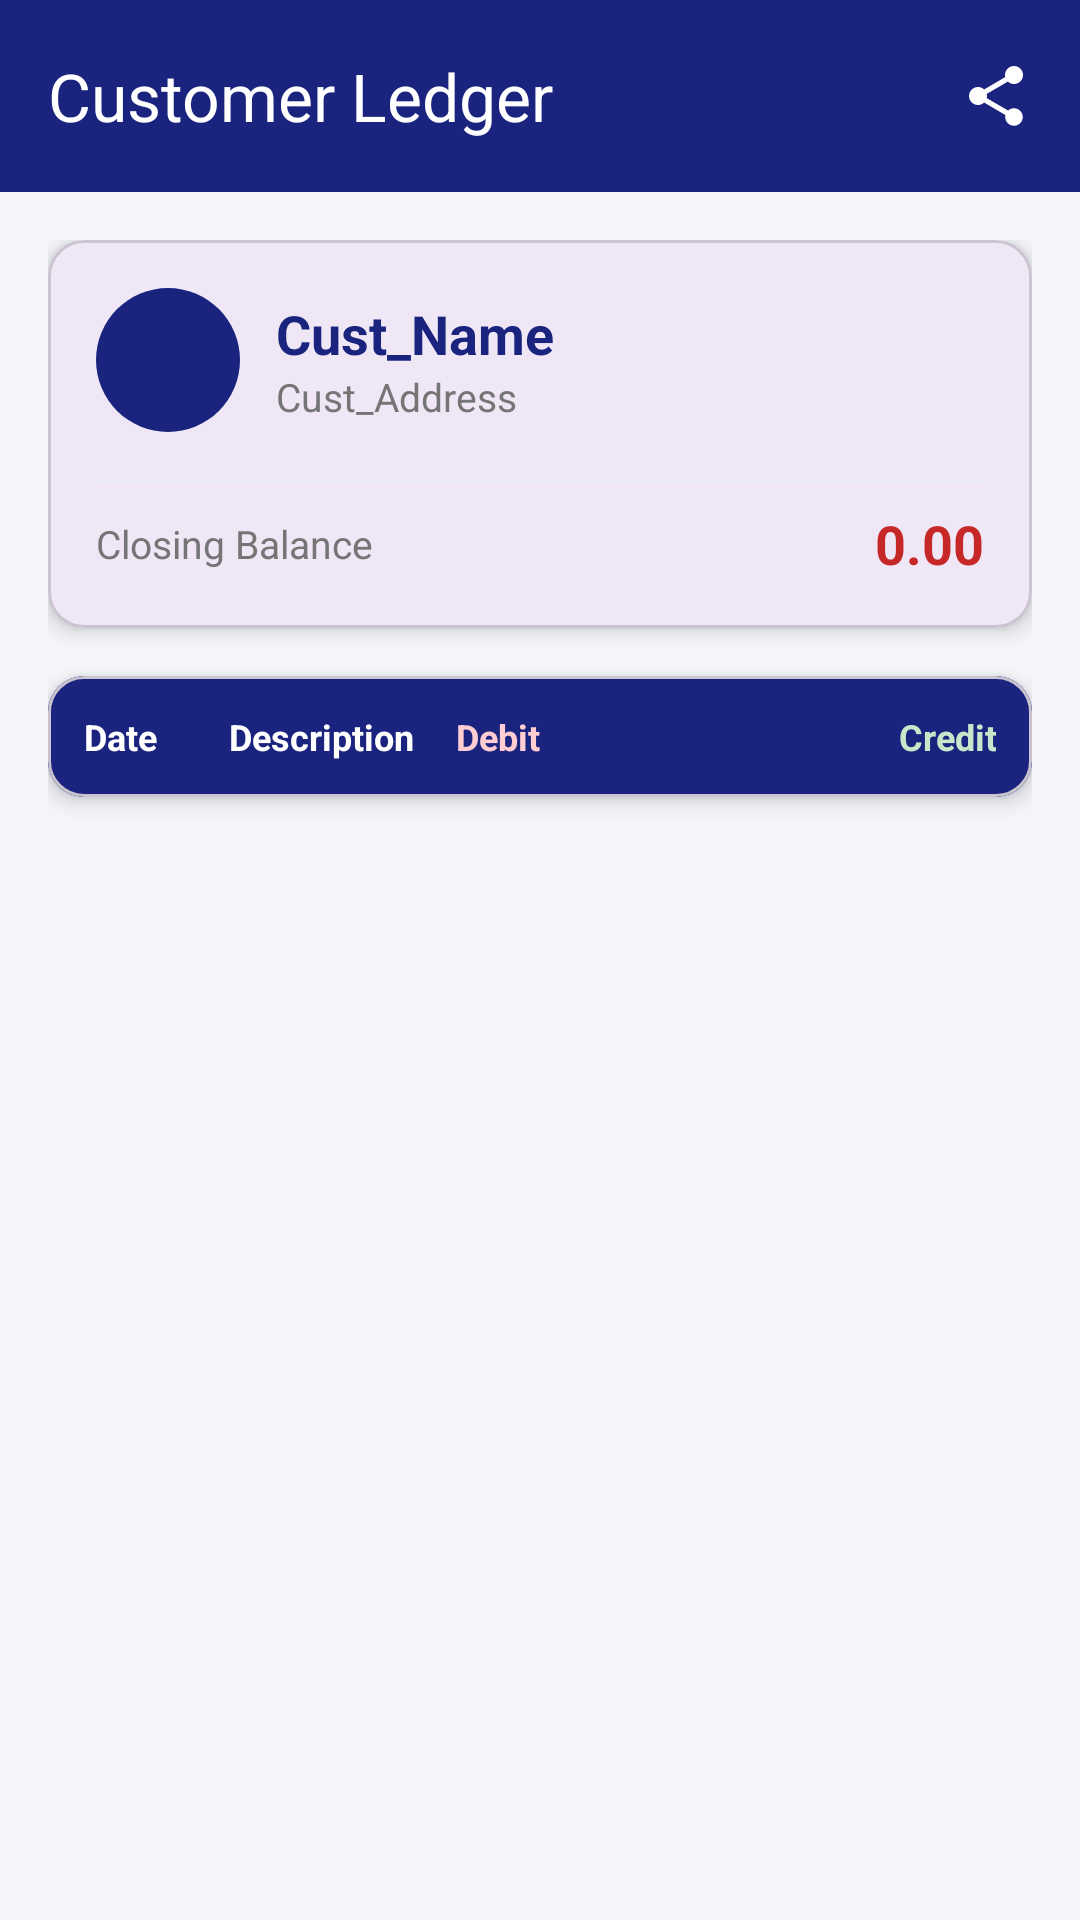

Where icons sit on this 1080px x 1920px app screen, as box(x1, y1, x2, y2):
Share: box(969, 66, 1023, 126)
